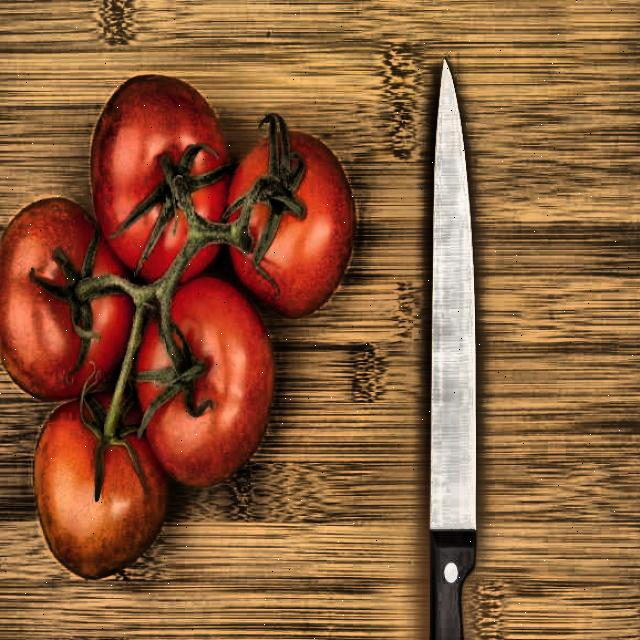knife: (419, 51, 482, 640)
